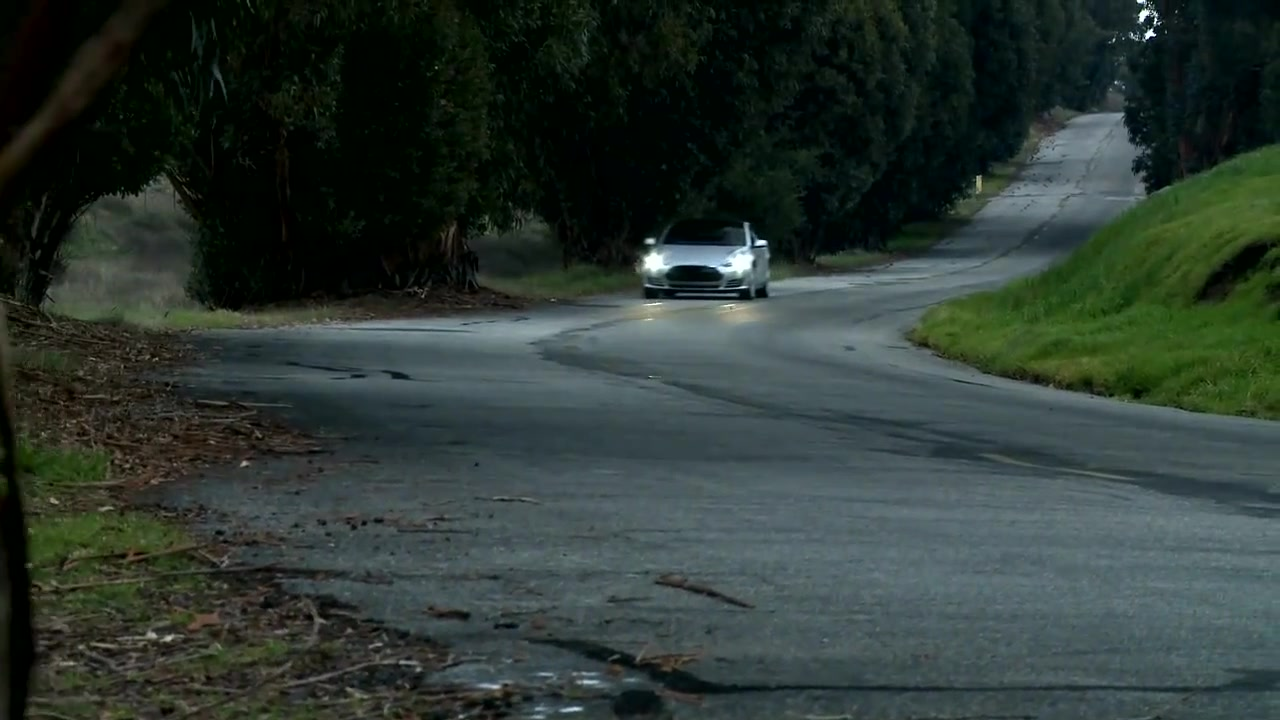car: (637, 218, 773, 302)
